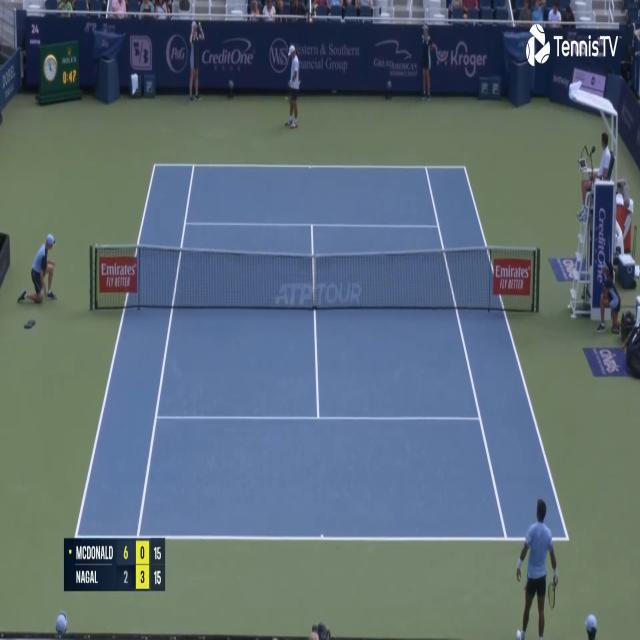tennis-player: (513, 496, 560, 640), (283, 40, 302, 131)
